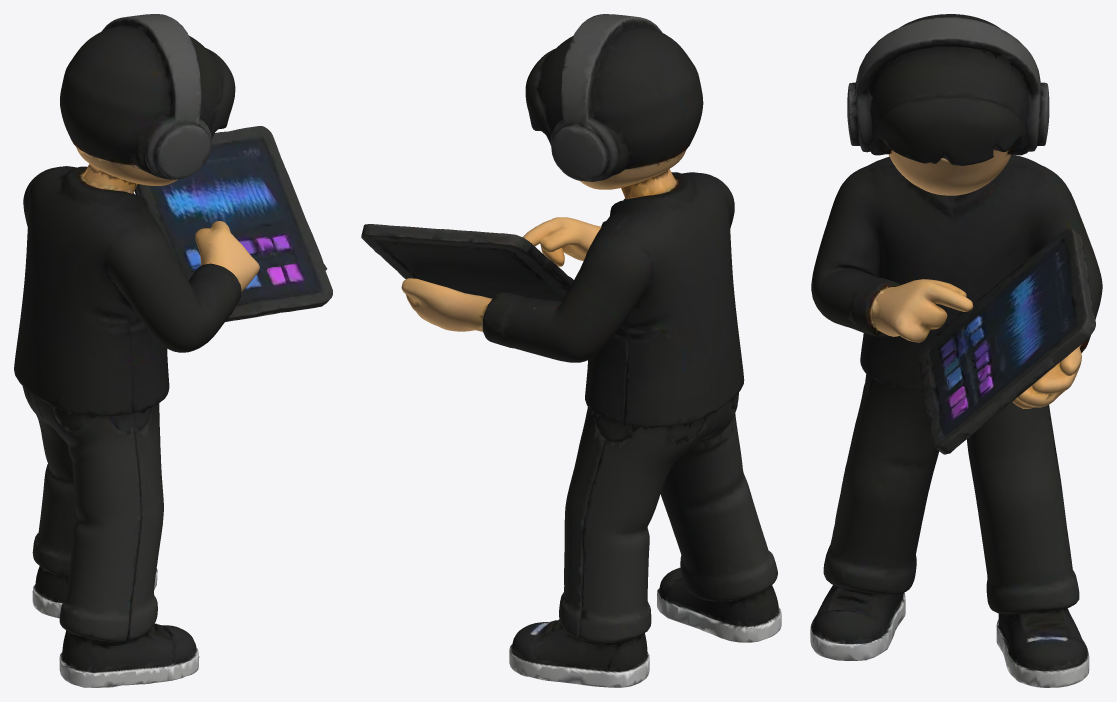
Rendered from toy.glb.
The picture shows the model from 3 angles, left to right: view 1: azimuth 30°, elevation 25°; view 2: azimuth 150°, elevation 25°; view 3: azimuth 270°, elevation 25°; orthographic projection. The views are drawn at different scales.
Parts seen in each view (by area): view 1: tripo_node_17b06c5d-6f6e-47c2-a59f-f7915603a6e7; view 2: tripo_node_17b06c5d-6f6e-47c2-a59f-f7915603a6e7; view 3: tripo_node_17b06c5d-6f6e-47c2-a59f-f7915603a6e7.
Boxes of the visible parts, x1,y1,x2,y2 form: tripo_node_17b06c5d-6f6e-47c2-a59f-f7915603a6e7: (14,14,332,687); tripo_node_17b06c5d-6f6e-47c2-a59f-f7915603a6e7: (361,14,781,687); tripo_node_17b06c5d-6f6e-47c2-a59f-f7915603a6e7: (810,14,1102,687).
Bounding box in the file's own units: 0.534 × 1 × 0.4108.
1 material, 1 textured.
